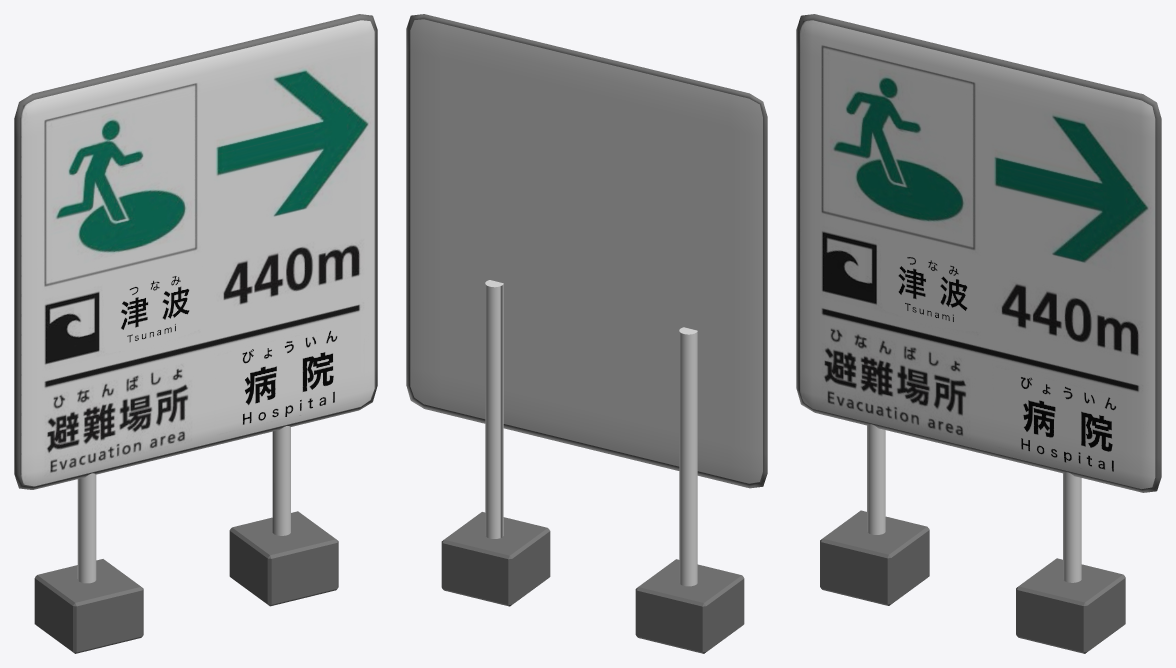
File: Hospital.fbx
3 renders of one model, left to right at view 1: azimuth 30°, elevation 25°; view 2: azimuth 150°, elevation 25°; view 3: azimuth 330°, elevation 25°, orthographic.
Visible parts, largest first — view 1: Hospital; view 2: Hospital; view 3: Hospital.
Boxes of the visible parts, x1,y1,x2,y2 form: Hospital: [14, 14, 377, 653]; Hospital: [406, 14, 767, 653]; Hospital: [796, 14, 1161, 653].
Size of the model in its own units: 0.91 by 1.33 by 0.1779.
Materials: 4 (1 with a texture image).
